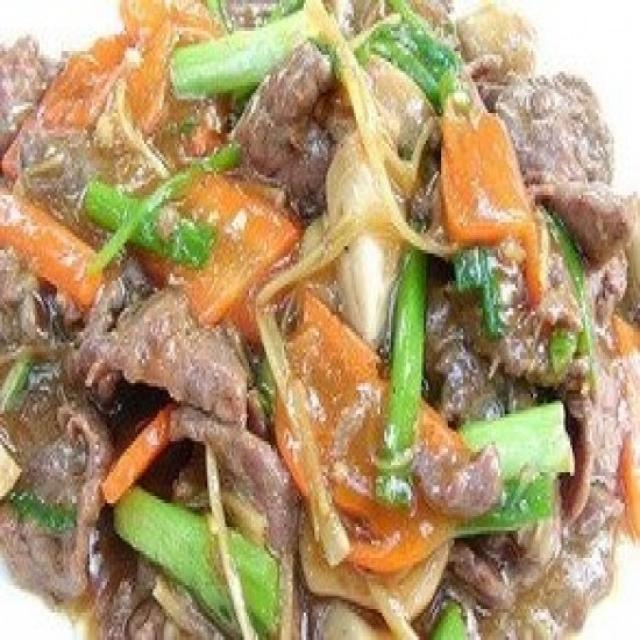牛肉菜式: (26, 31, 619, 618)
